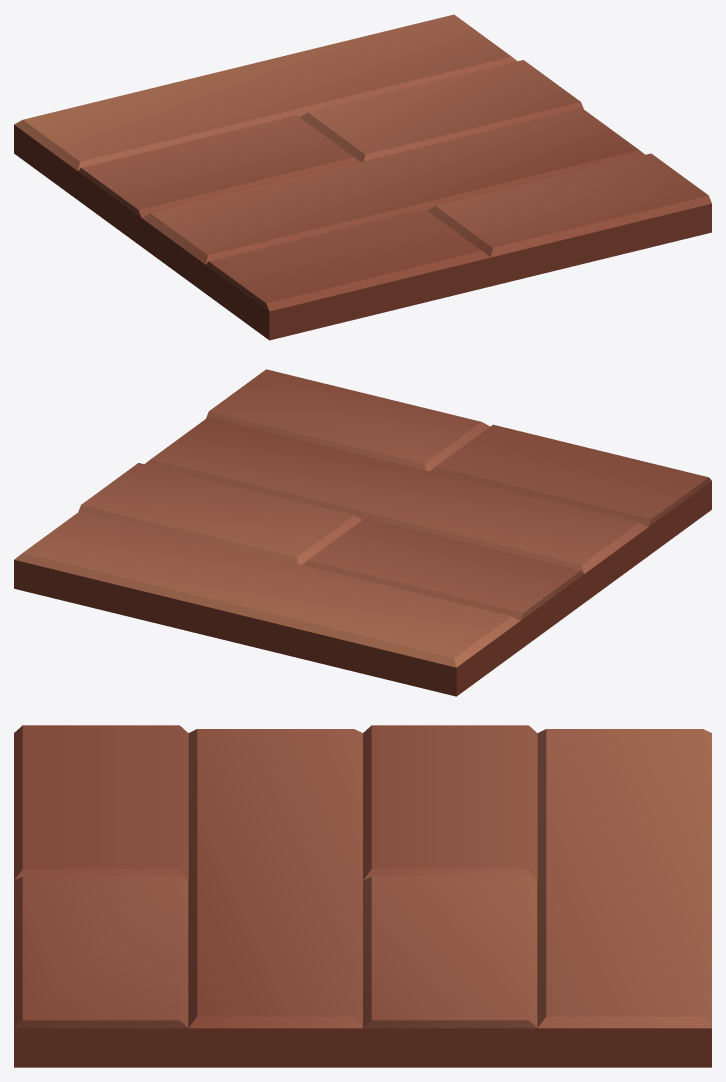
The model's file is floor_wood_small.gltf.
3 views of the same model, one above another, from view 1: azimuth 30°, elevation 25°; view 2: azimuth 150°, elevation 25°; view 3: azimuth 270°, elevation 25° (orthographic). The views are drawn at different scales.
Parts seen in each view (by area): view 1: floor_wood_small; view 2: floor_wood_small; view 3: floor_wood_small.
Part boxes in pixels (x1,y1,x2,y2): floor_wood_small: (14,14,711,340); floor_wood_small: (14,369,711,696); floor_wood_small: (14,725,711,1067).
Bounding box in the file's own units: 2 × 0.15 × 2.
Materials: 1 (1 with a texture image).
